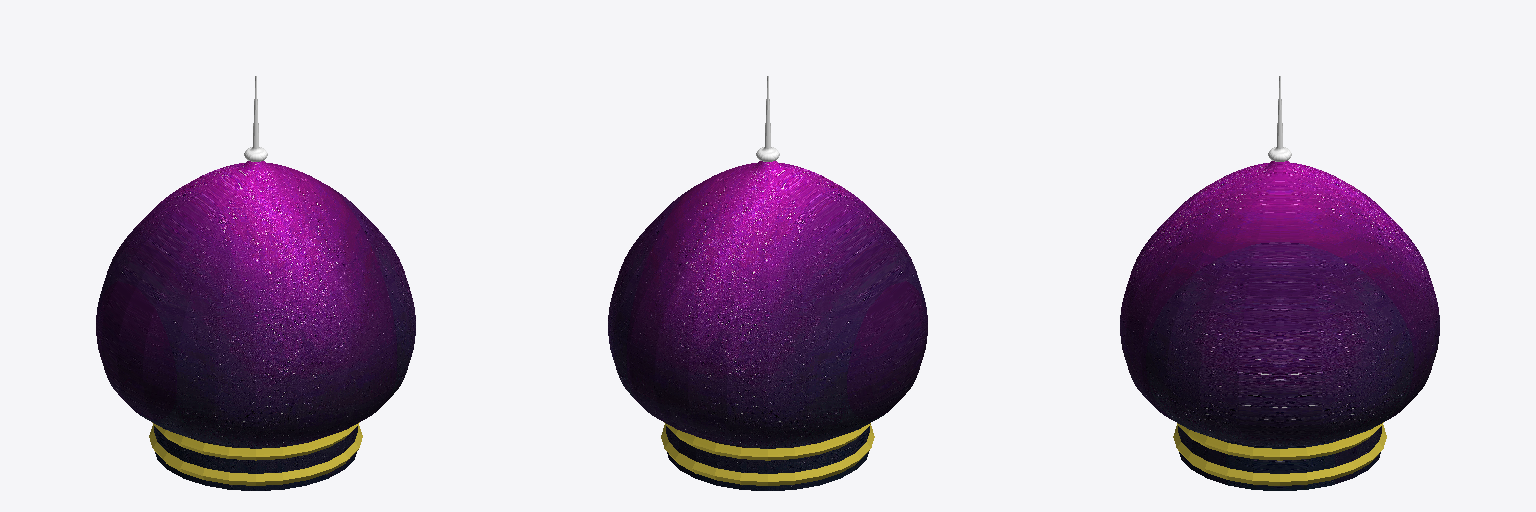
3 views of the same model, side by side, from view 1: azimuth 30°, elevation 25°; view 2: azimuth 150°, elevation 25°; view 3: azimuth 270°, elevation 25° (orthographic).
Visible parts, largest first — view 1: Mesh1_Component_1_1_Model; view 2: Mesh1_Component_1_1_Model; view 3: Mesh1_Component_1_1_Model.
Boxes of the visible parts, box(x1,y1,x2,y2) form: Mesh1_Component_1_1_Model: box(96, 76, 415, 490); Mesh1_Component_1_1_Model: box(608, 76, 927, 490); Mesh1_Component_1_1_Model: box(1120, 76, 1439, 490).
Bounding box in the file's own units: 0.9996 × 1.32 × 0.9996.
Materials: 3 (2 with a texture image).